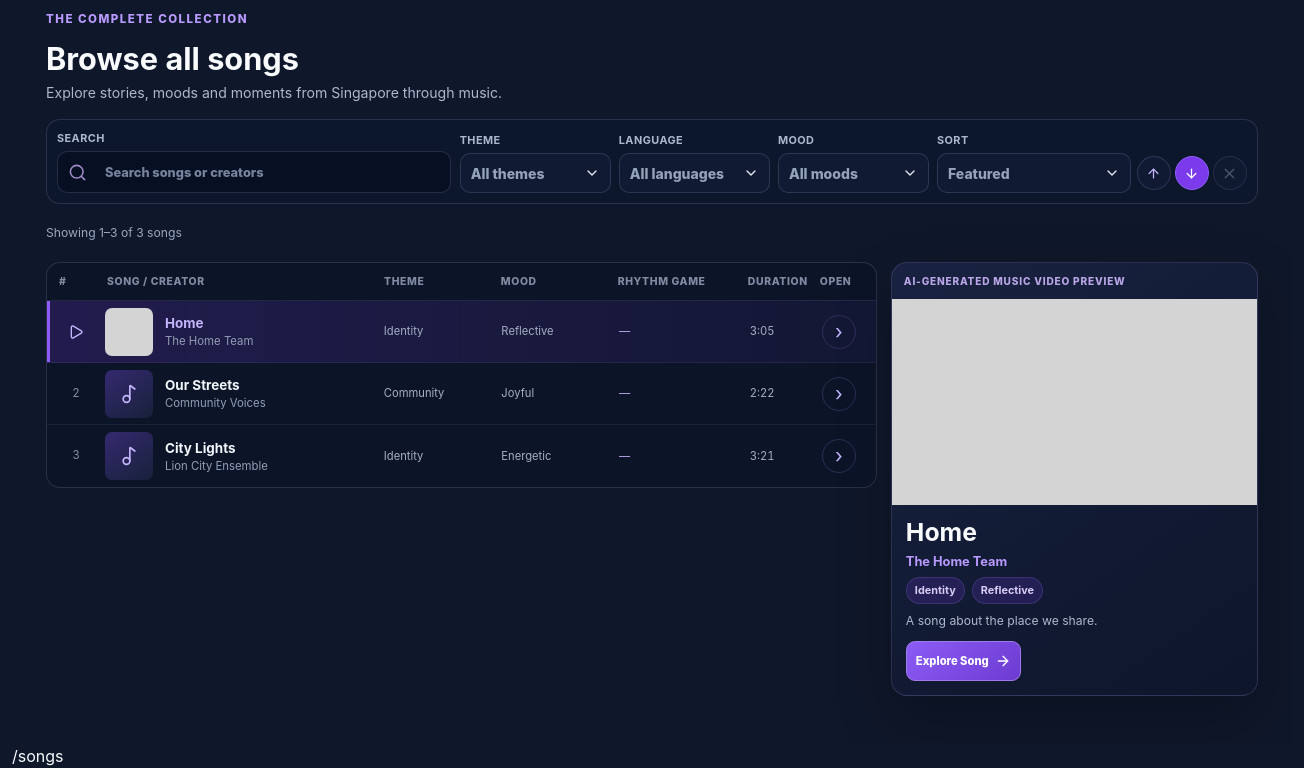
Test: Songs Library › updates the contextual panel when a row is selected and shows a missing-video fallback
(page scrolled)
Click the button named "Select Our Streets preview" at (436, 394), box x1=51 y1=367 x2=821 y2=420
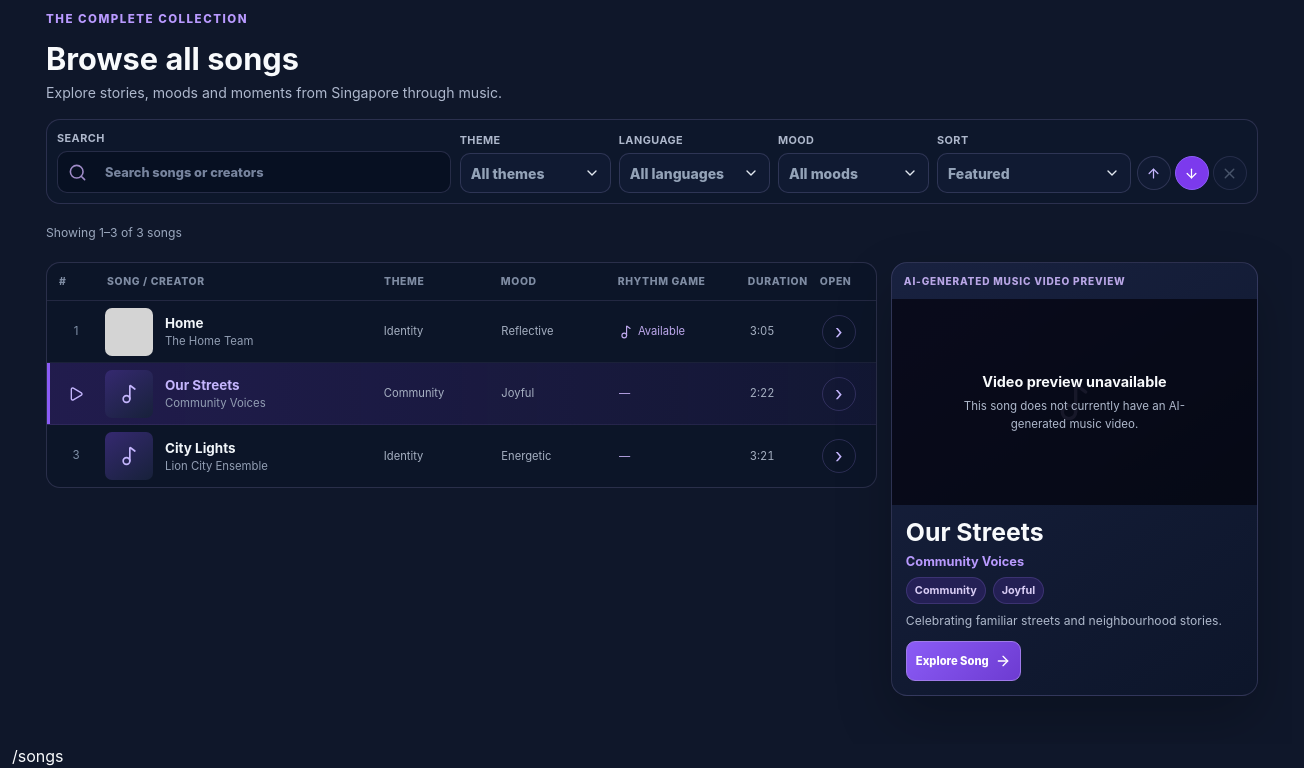
Result: the text "Video preview unavailable" is shown at x1=982 y1=371 x2=1167 y2=392
Result: the text "This song does not currently have an AI-generated music video." is shown at x1=949 y1=398 x2=1199 y2=433
